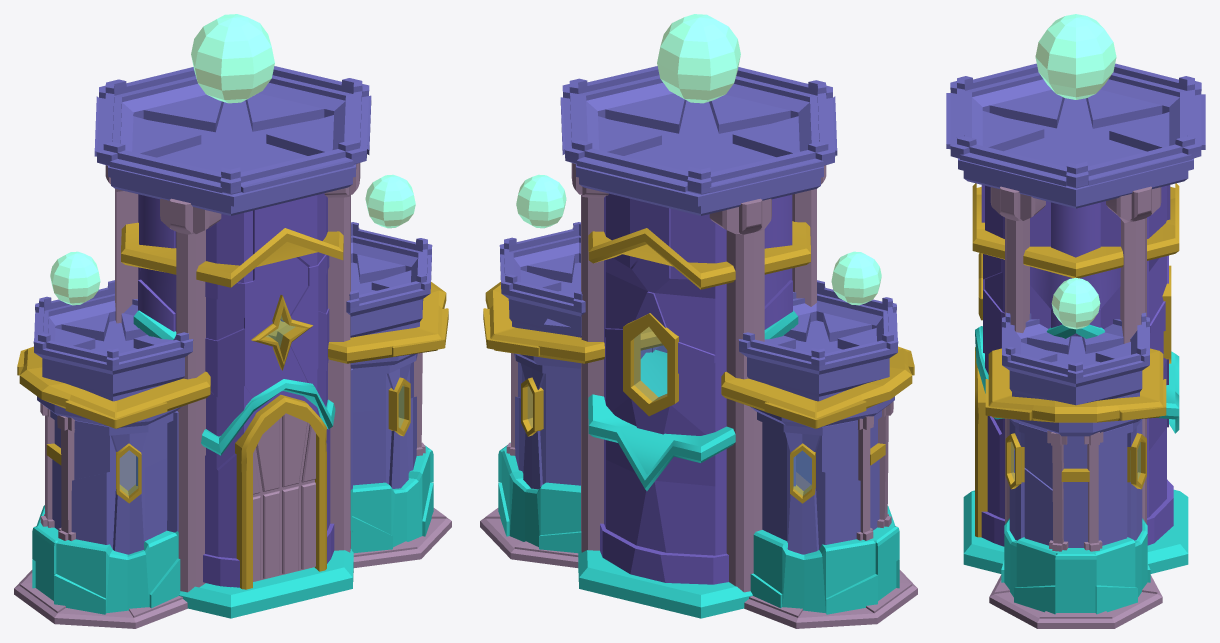
File: finalTower.fbx
The picture shows the model from 3 angles, left to right: view 1: azimuth 30°, elevation 25°; view 2: azimuth 150°, elevation 25°; view 3: azimuth 270°, elevation 25°; orthographic projection. The views are drawn at different scales.
Visible parts, largest first — view 1: Top, Cylinder, Wing, pillars, Top1, WingBase, bannister1, door, orb1, doorFrame, Base, moreBase (+9 smaller); view 2: Cylinder, Top, pillars, Wing, Top1, WingBase, bannister1, bannister2, orb1, Base, moreBase, bannister (+7 smaller); view 3: Top, Cylinder, Wing, Top1, WingBase, pillars, bannister1, orb1, bannister, Base, moreBase, orb2 (+8 smaller).
Boxes of the visible parts, x1,y1,x2,y2 form: Top: [94, 66, 371, 215]; Cylinder: [138, 193, 334, 587]; Wing: [37, 353, 417, 554]; pillars: [105, 163, 360, 592]; Top1: [33, 222, 432, 401]; WingBase: [32, 445, 433, 614]; bannister1: [17, 282, 448, 428]; door: [253, 413, 315, 581]; orb1: [191, 14, 274, 103]; doorFrame: [235, 394, 326, 589]; Base: [179, 549, 353, 618]; moreBase: [14, 508, 451, 628]; Cylinder: [600, 193, 792, 584]; Top: [560, 66, 837, 215]; pillars: [571, 163, 826, 592]; Wing: [514, 318, 894, 554]; Top1: [499, 222, 898, 401]; WingBase: [498, 442, 899, 614]; bannister1: [483, 282, 914, 428]; bannister2: [588, 349, 735, 490]; orb1: [657, 14, 740, 103]; Base: [578, 550, 752, 618]; moreBase: [480, 508, 917, 628]; bannister: [588, 221, 810, 289]; Top: [946, 63, 1205, 208]; Cylinder: [981, 185, 1173, 546]; Wing: [1009, 333, 1142, 547]; Top1: [1002, 312, 1149, 405]; WingBase: [1001, 518, 1150, 614]; pillars: [990, 186, 1161, 524]; bannister1: [985, 348, 1166, 422]; orb1: [1035, 14, 1116, 99]; bannister: [972, 183, 1179, 278]; Base: [963, 489, 1188, 573]; moreBase: [989, 575, 1162, 628]; orb2: [1051, 278, 1100, 329].
Bounding box in the file's own units: 515 × 663 × 299.
